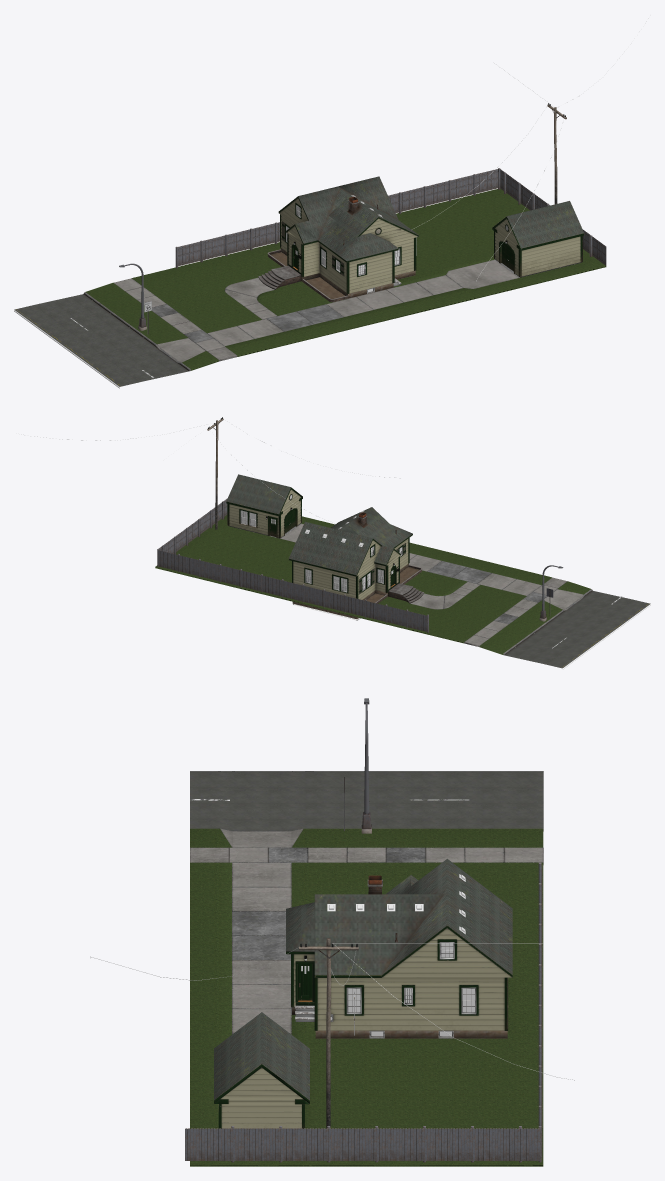
File: cozy-cottage-y270.glb
3 views of the same model, one above another, from view 1: azimuth 30°, elevation 25°; view 2: azimuth 150°, elevation 25°; view 3: azimuth 270°, elevation 25° (orthographic). The views are drawn at different scales.
Visible parts, largest first — view 1: Terrain.Shape_Lawn_0, Terrain.Shape_Sidewalk_0, Terrain.Shape_Road_0, Fence.Shape_Fence_Panel_0, Roof.Shape_Shingles_0, Foyer South Wall.Shape_Siding_0, Garage Roof.Shape_Garage_Shingles_0, Garage North Wall.Shape_Garage_Siding_0, Foyer South Wall.Shape_Exterior_Trim_0, Landscaping.Shape_Landscaping_0, Garage East Wall.Shape_Garage_Exterior_Trim_0, Utility Pole.Shape_Power_Lines_0 (+2 smaller); view 2: Terrain.Shape_Lawn_0, Fence.Shape_Fence_Panel_0, Terrain.Shape_Road_0, Terrain.Shape_Sidewalk_0, Roof.Shape_Shingles_0, Foyer South Wall.Shape_Siding_0, Garage Roof.Shape_Garage_Shingles_0, Garage North Wall.Shape_Garage_Siding_0, Utility Pole.Shape_Power_Lines_0, Garage East Wall.Shape_Garage_Exterior_Trim_0, Foyer South Wall.Shape_Exterior_Trim_0, Foyer South Wall.Shape_Exterior_Window_Casing_0 (+3 smaller); view 3: Terrain.Shape_Lawn_0, Terrain.Shape_Road_0, Terrain.Shape_Sidewalk_0, Roof.Shape_Shingles_0, Fence.Shape_Fence_Panel_0, Foyer South Wall.Shape_Siding_0, Garage Roof.Shape_Garage_Shingles_0, Garage North Wall.Shape_Garage_Siding_0, Utility Pole.Shape_Power_Lines_0, Foundation Wall East.Shape_Foundation_0, Foyer South Wall.Shape_Exterior_Trim_0, Utility Pole.Shape_Utility_Pole_0 (+4 smaller).
Boxes of the visible parts, box(x1,y1,x2,y2) form: Terrain.Shape_Lawn_0: box(86, 189, 606, 370); Terrain.Shape_Sidewalk_0: box(113, 259, 519, 362); Terrain.Shape_Road_0: box(14, 294, 188, 388); Fence.Shape_Fence_Panel_0: box(175, 168, 606, 268); Roof.Shape_Shingles_0: box(280, 176, 418, 260); Foyer South Wall.Shape_Siding_0: box(279, 198, 418, 293); Garage Roof.Shape_Garage_Shingles_0: box(507, 201, 583, 248); Garage North Wall.Shape_Garage_Siding_0: box(494, 219, 580, 276); Foyer South Wall.Shape_Exterior_Trim_0: box(278, 196, 418, 293); Landscaping.Shape_Landscaping_0: box(267, 249, 347, 302); Garage East Wall.Shape_Garage_Exterior_Trim_0: box(492, 216, 584, 276); Utility Pole.Shape_Power_Lines_0: box(287, 15, 650, 292); Terrain.Shape_Lawn_0: box(155, 515, 590, 654); Fence.Shape_Fence_Panel_0: box(157, 498, 428, 632); Terrain.Shape_Road_0: box(504, 590, 650, 669); Terrain.Shape_Sidewalk_0: box(280, 523, 583, 646); Roof.Shape_Shingles_0: box(289, 507, 412, 575); Foyer South Wall.Shape_Siding_0: box(293, 539, 408, 599); Garage Roof.Shape_Garage_Shingles_0: box(226, 474, 290, 513); Garage North Wall.Shape_Garage_Siding_0: box(229, 489, 300, 537); Utility Pole.Shape_Power_Lines_0: box(16, 420, 401, 620); Garage East Wall.Shape_Garage_Exterior_Trim_0: box(226, 487, 302, 538); Foyer South Wall.Shape_Exterior_Trim_0: box(288, 534, 412, 598); Foyer South Wall.Shape_Exterior_Window_Casing_0: box(304, 544, 403, 593); Terrain.Shape_Lawn_0: box(190, 828, 543, 1166); Terrain.Shape_Road_0: box(190, 771, 543, 830); Terrain.Shape_Sidewalk_0: box(190, 829, 543, 1034); Roof.Shape_Shingles_0: box(286, 859, 512, 974); Fence.Shape_Fence_Panel_0: box(185, 862, 542, 1162); Foyer South Wall.Shape_Siding_0: box(294, 928, 511, 1030); Garage Roof.Shape_Garage_Shingles_0: box(214, 1012, 309, 1099); Garage North Wall.Shape_Garage_Siding_0: box(220, 1067, 303, 1128); Utility Pole.Shape_Power_Lines_0: box(90, 943, 574, 1080); Foundation Wall East.Shape_Foundation_0: box(292, 1007, 507, 1038); Foyer South Wall.Shape_Exterior_Trim_0: box(286, 925, 512, 1030); Utility Pole.Shape_Utility_Pole_0: box(299, 938, 358, 1128).
Size of the model in its own units: 22.24 by 4.8 by 8.64.
100 materials, 99 textured.
